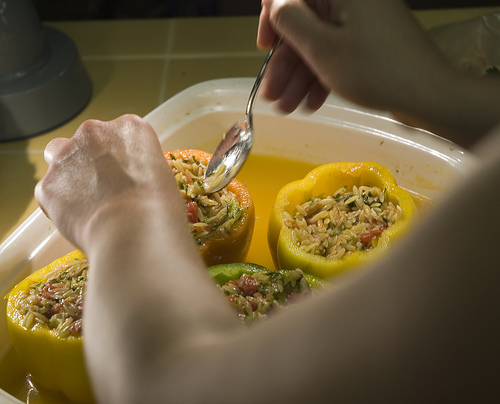capsicum: (267, 160, 418, 280), (1, 249, 95, 401), (162, 149, 254, 264), (204, 259, 308, 327)
